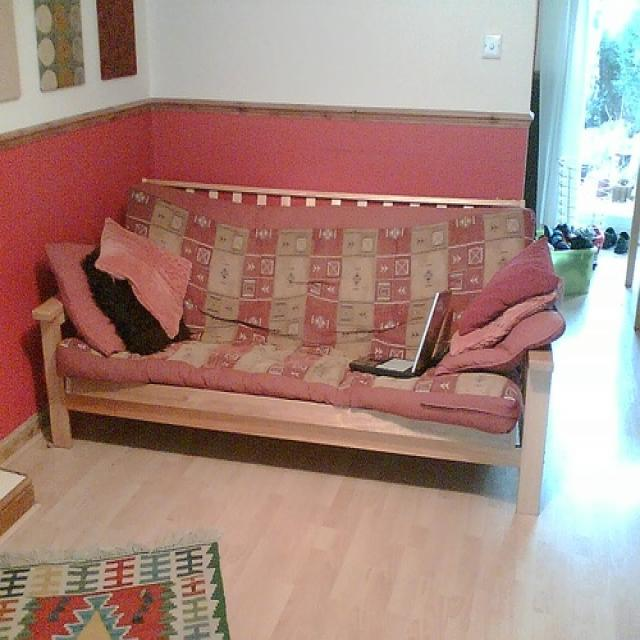sofa: (31, 174, 568, 518)
